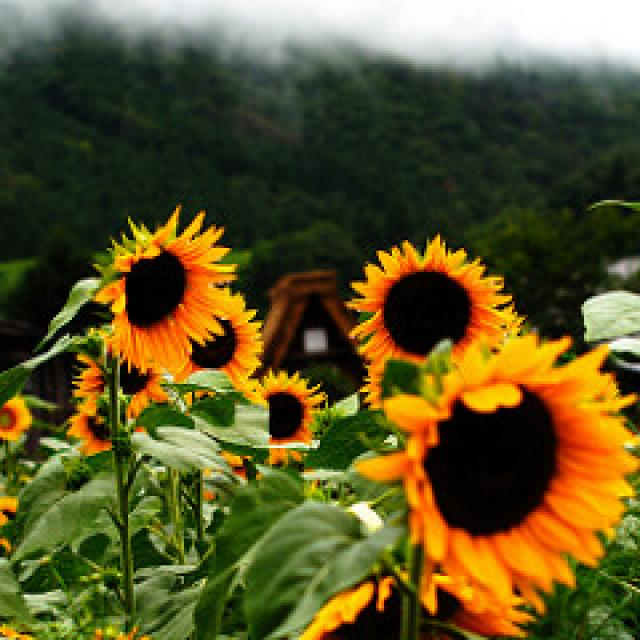sunflower: (376, 320, 640, 619), (88, 213, 235, 376), (336, 245, 507, 373), (252, 370, 334, 450)
